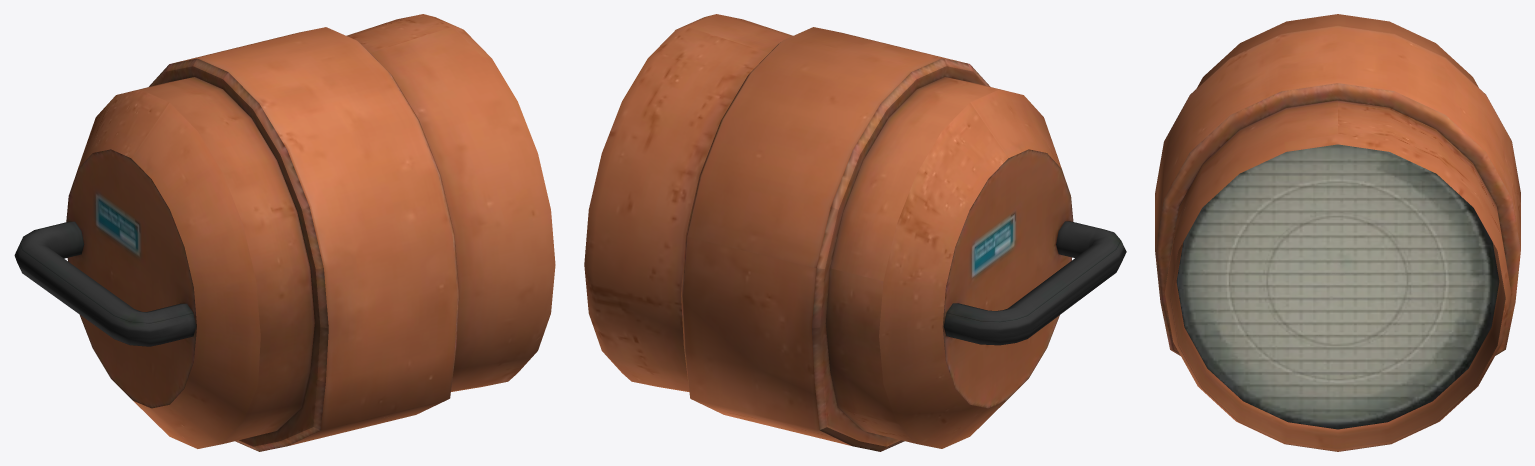
The picture shows the model from 3 angles, left to right: view 1: azimuth 30°, elevation 25°; view 2: azimuth 150°, elevation 25°; view 3: azimuth 270°, elevation 25°; orthographic projection. The views are drawn at different scales.
Parts seen in each view (by area): view 1: body0_model0_lod0_mesh0; view 2: body0_model0_lod0_mesh0; view 3: body0_model0_lod0_mesh0.
Boxes of the visible parts, x1,y1,x2,y2 form: body0_model0_lod0_mesh0: (14,14,555,451); body0_model0_lod0_mesh0: (584,14,1126,451); body0_model0_lod0_mesh0: (1155,14,1520,451).
Size of the model in its own units: 22.81 by 19.89 by 19.69.
1 material, 1 textured.
